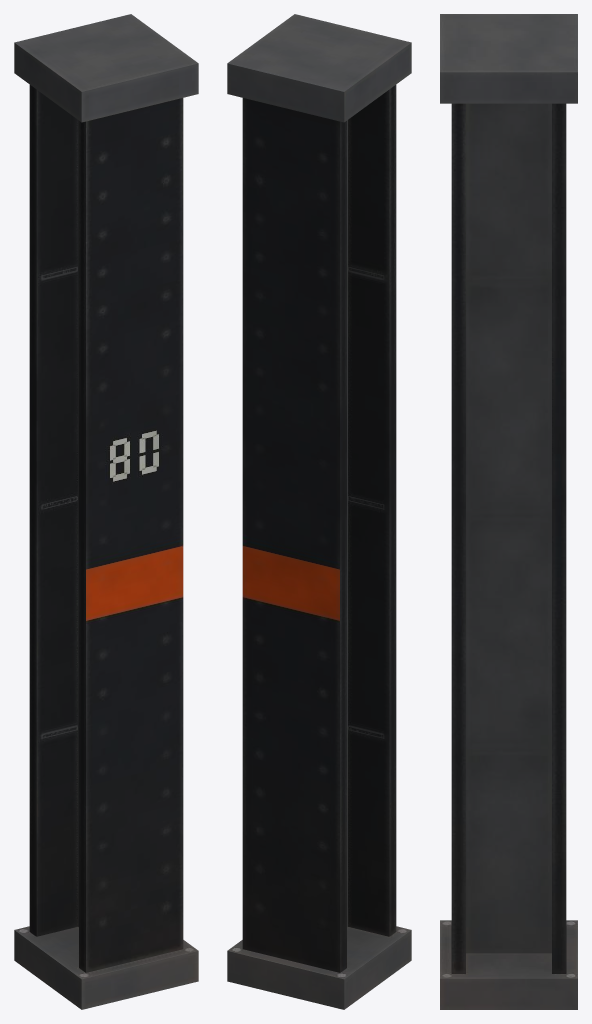
Rendered from rib_pillar_b.glb.
3 views of the same model, side by side, from view 1: azimuth 30°, elevation 25°; view 2: azimuth 150°, elevation 25°; view 3: azimuth 270°, elevation 25° (orthographic). The views are drawn at different scales.
Parts seen in each view (by area): view 1: rib_pillar_b; view 2: rib_pillar_b; view 3: rib_pillar_b.
Part boxes in pixels (box(x1,y1,x2,y2)): rib_pillar_b: box(14, 14, 198, 1009); rib_pillar_b: box(227, 14, 411, 1009); rib_pillar_b: box(440, 14, 577, 1009).
Bounding box in the file's own units: 0.48 × 3.6 × 0.48.
1 material, 1 textured.
